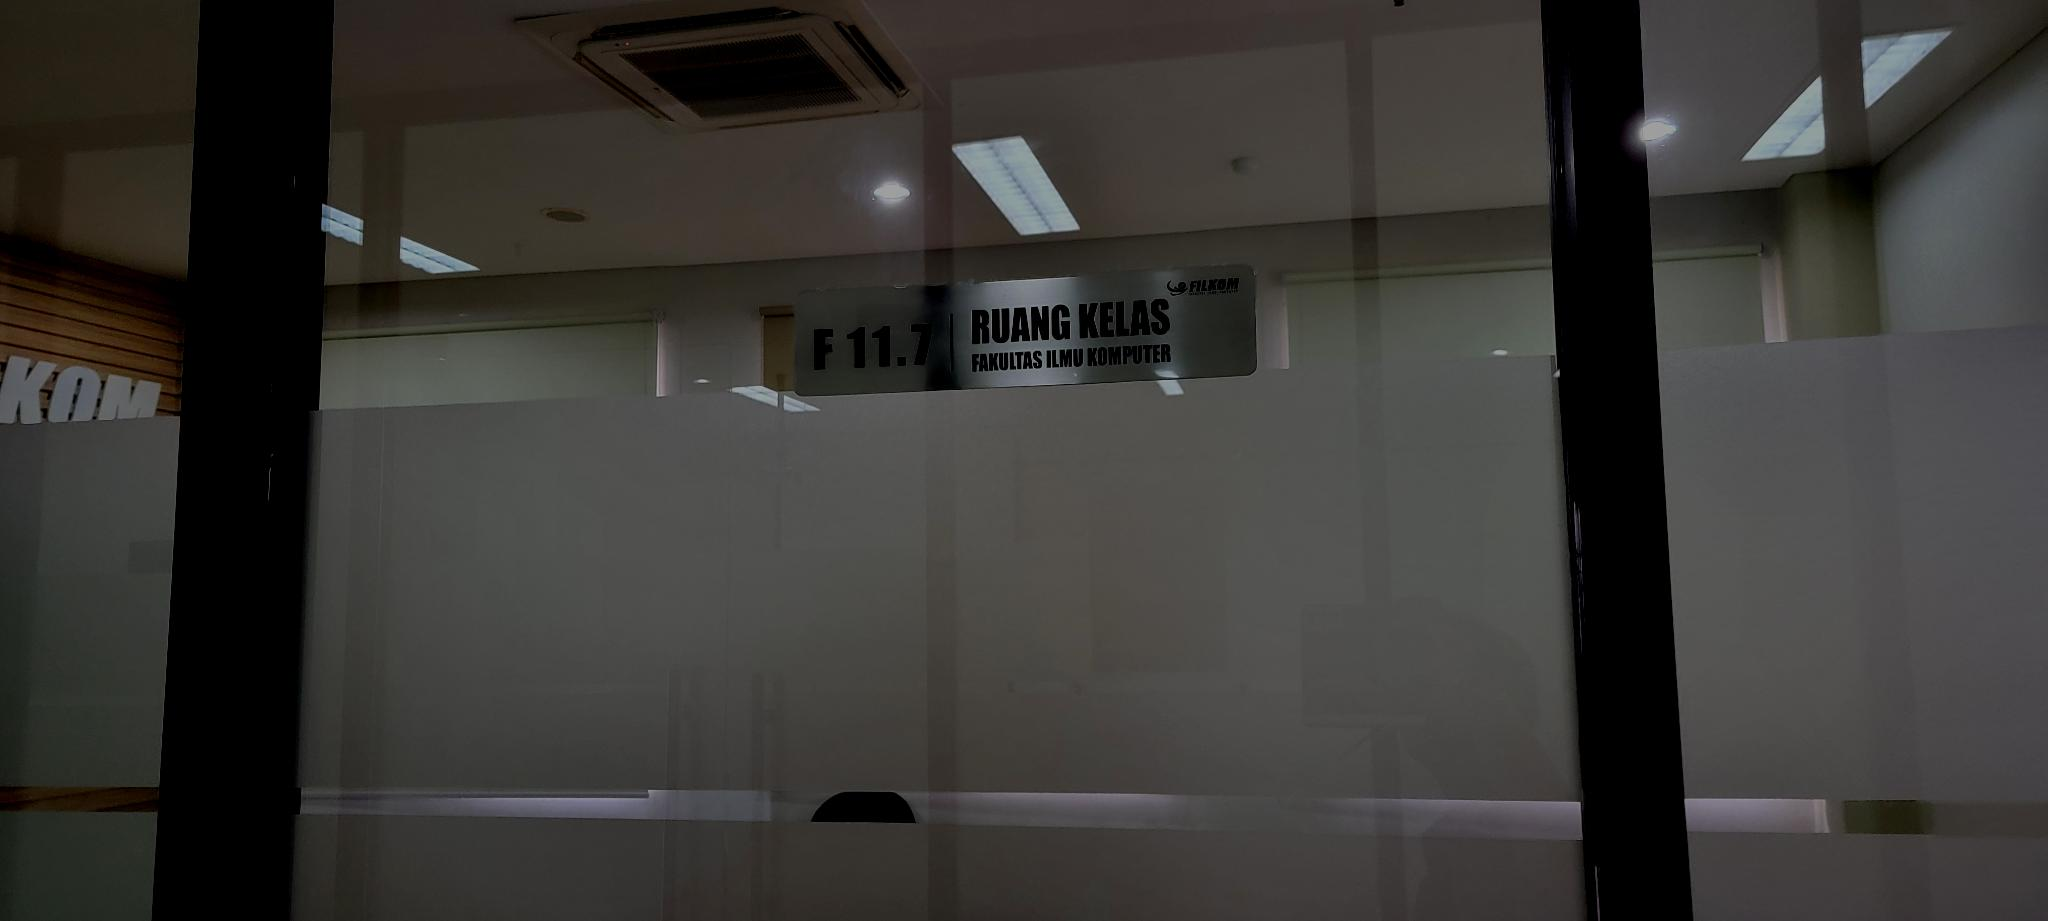plate: (789, 259, 1259, 395)
